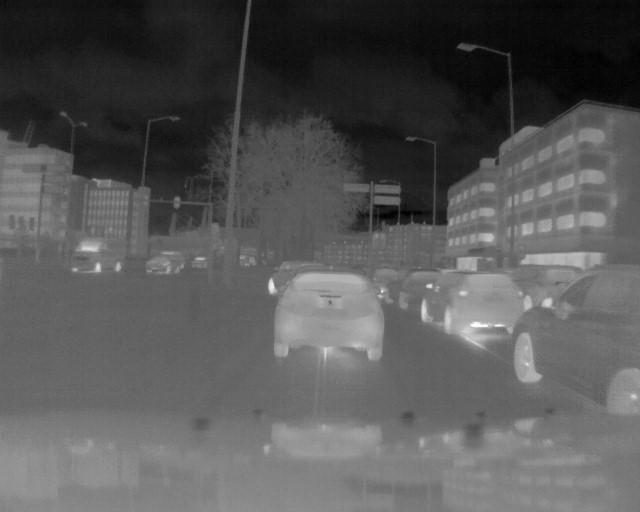car: (510, 261, 640, 426), (271, 270, 384, 360), (420, 271, 525, 334), (383, 268, 451, 310), (70, 233, 131, 274), (141, 250, 184, 275)
